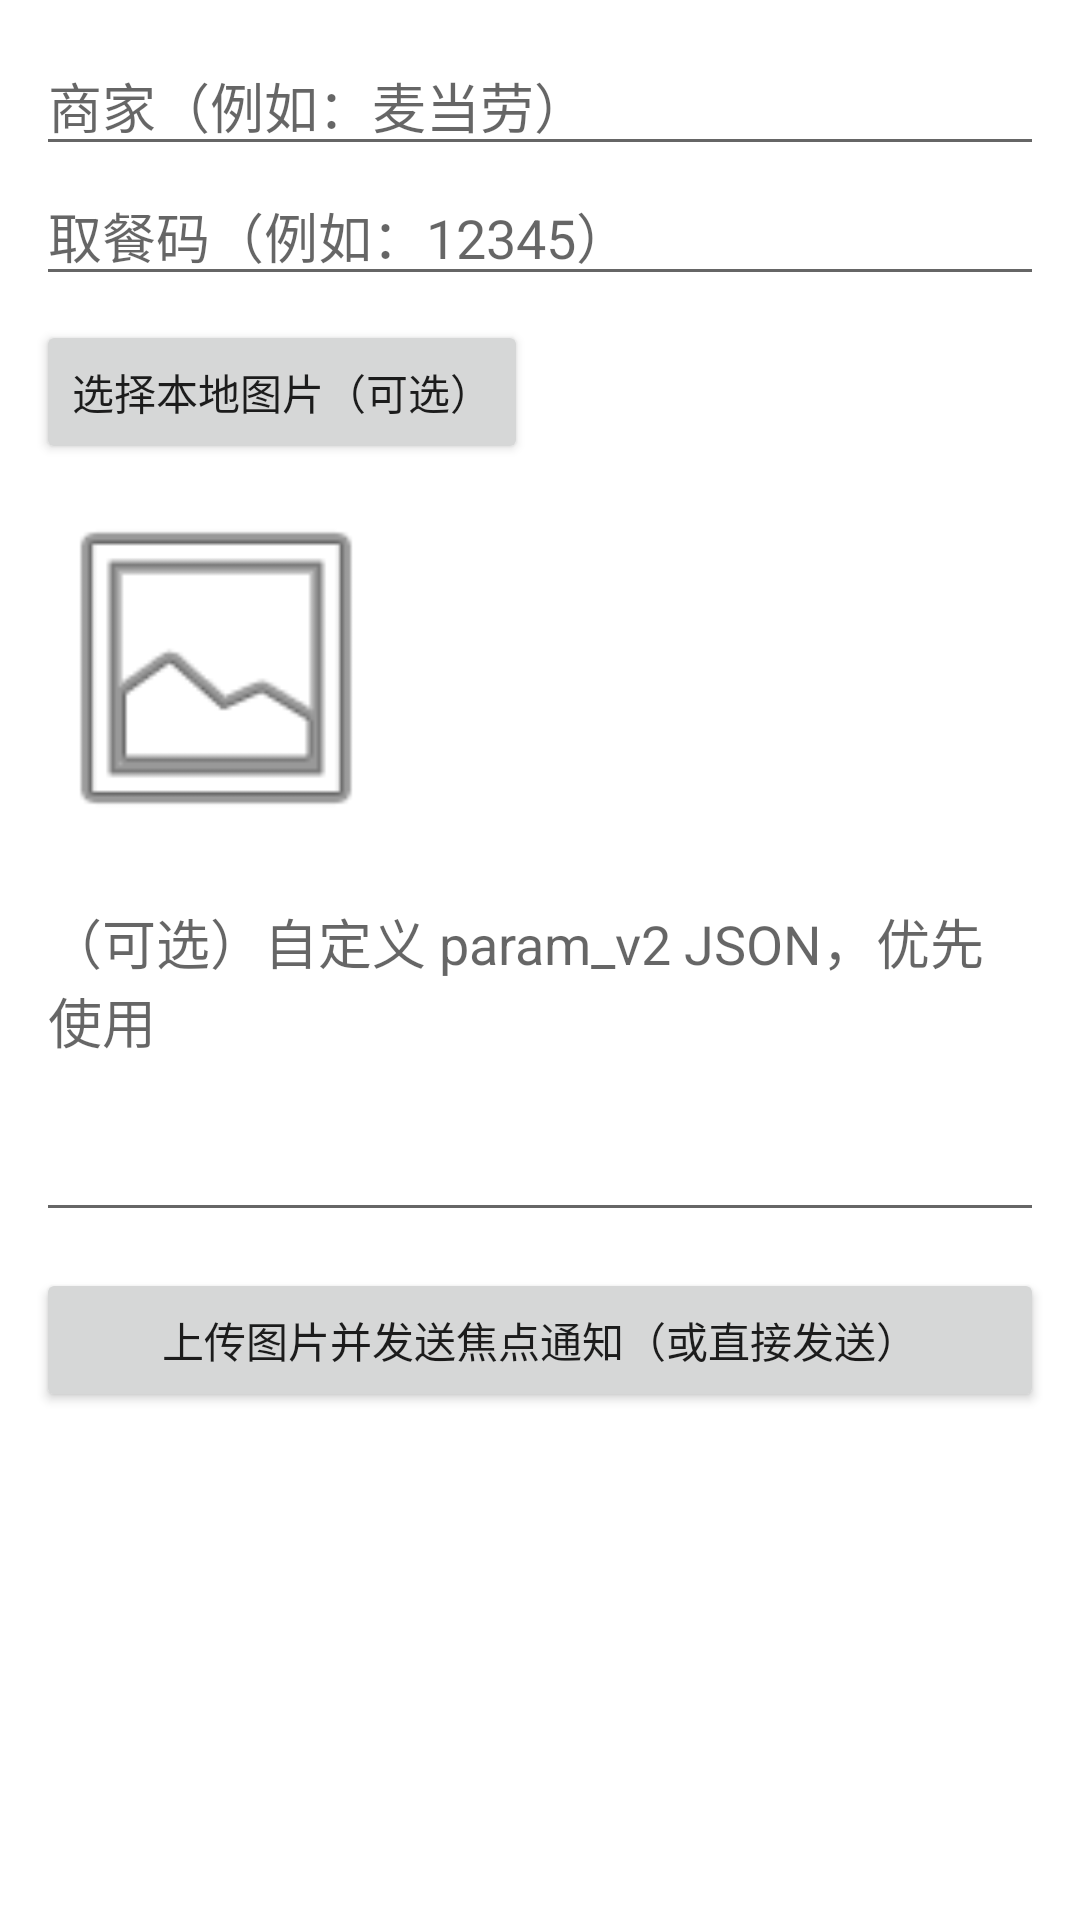

Icon bounding boxes for this 1080 x 1920 phone screenshot, format (x1, y1, x2, y2):
gallery: (80, 532, 352, 804)
